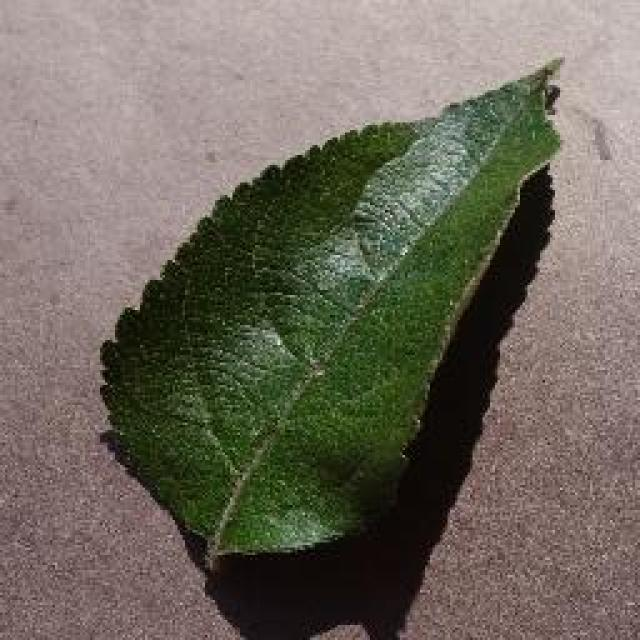apple healthy: (95, 52, 565, 572)
